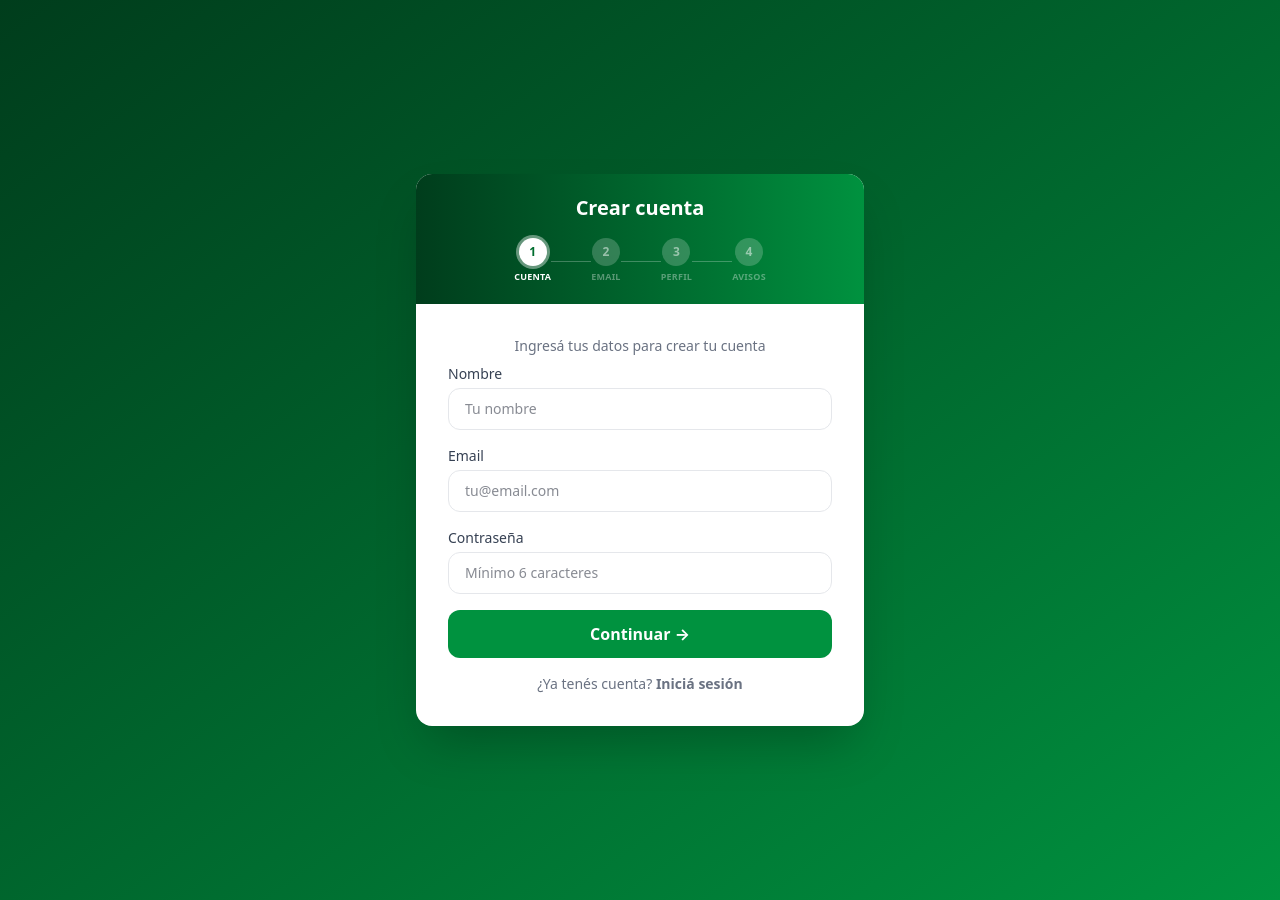
Register — paso 2: verificación de email › muestra input de código de 6 dígitos
The image size is (1280, 900).
Type "Carlos" into the field with placeholder "Tu nombre".
click(640, 409); type("Carlos")  # box x1=448 y1=388 x2=832 y2=430
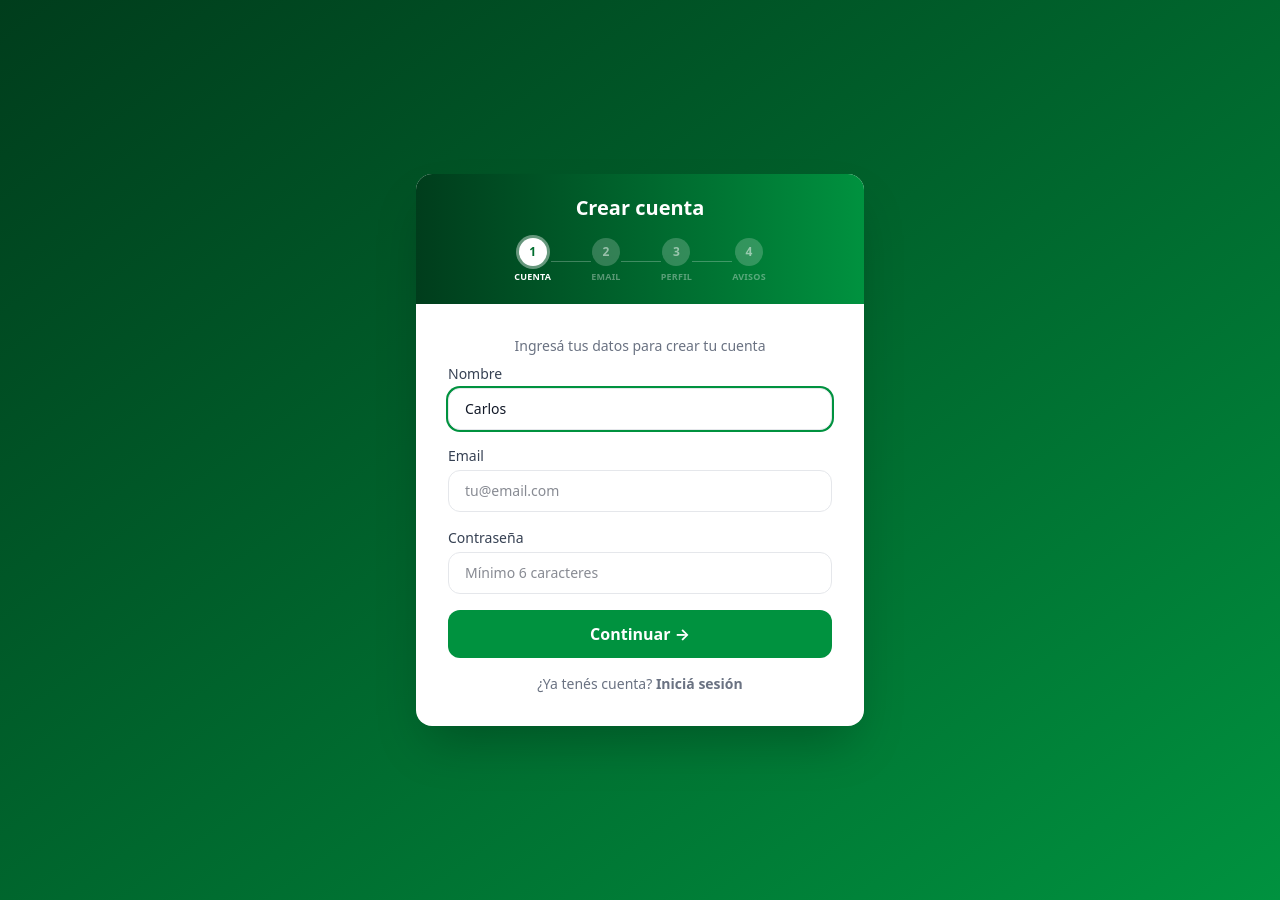
Type "carlos@test.com" into the field with placeholder "tu@email.com".
click(640, 491); type("carlos@test.com")  # box x1=448 y1=470 x2=832 y2=512
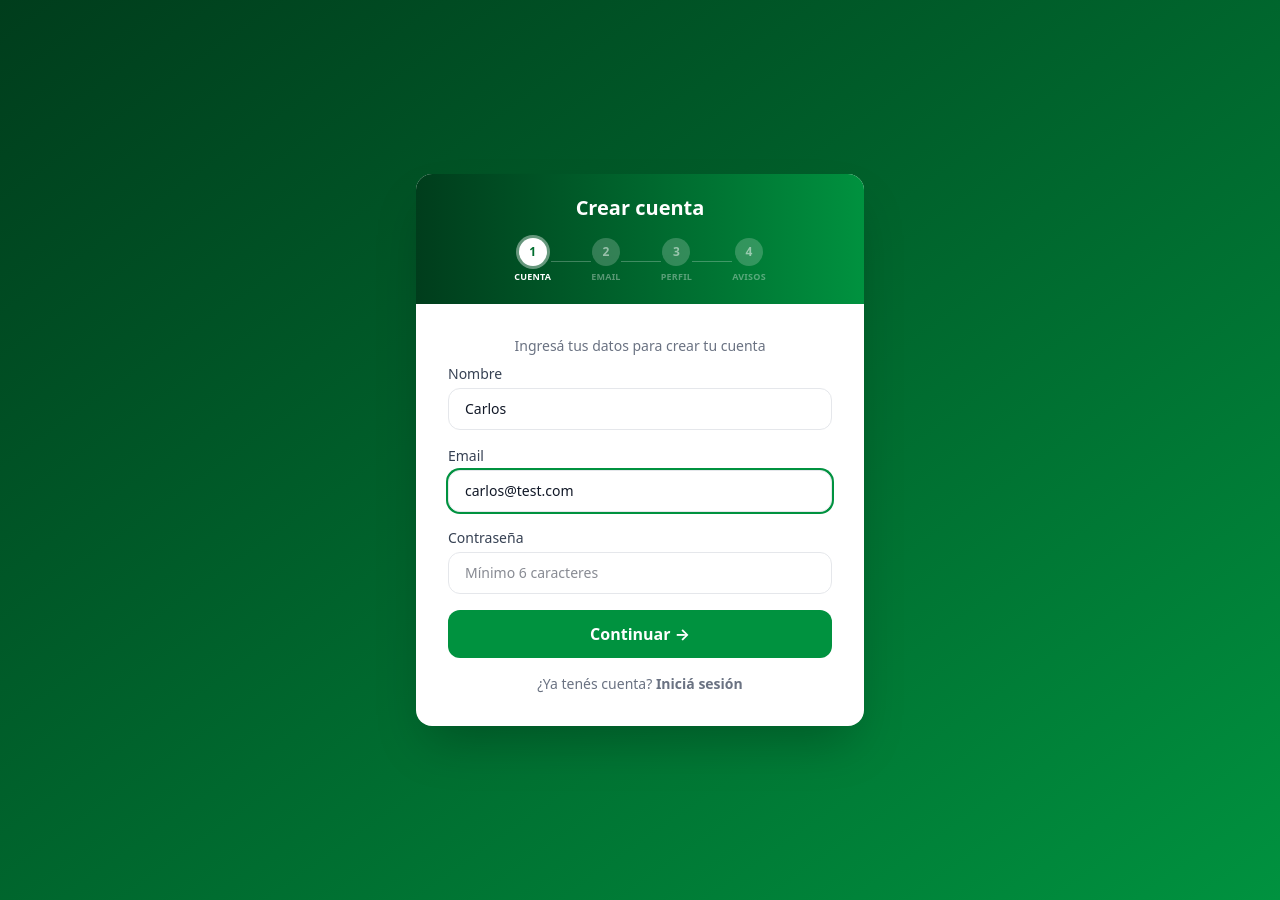
Type "pass123" into the password field with placeholder "Mínimo 6 caracteres".
click(640, 573); type("pass123")  # box x1=448 y1=552 x2=832 y2=594
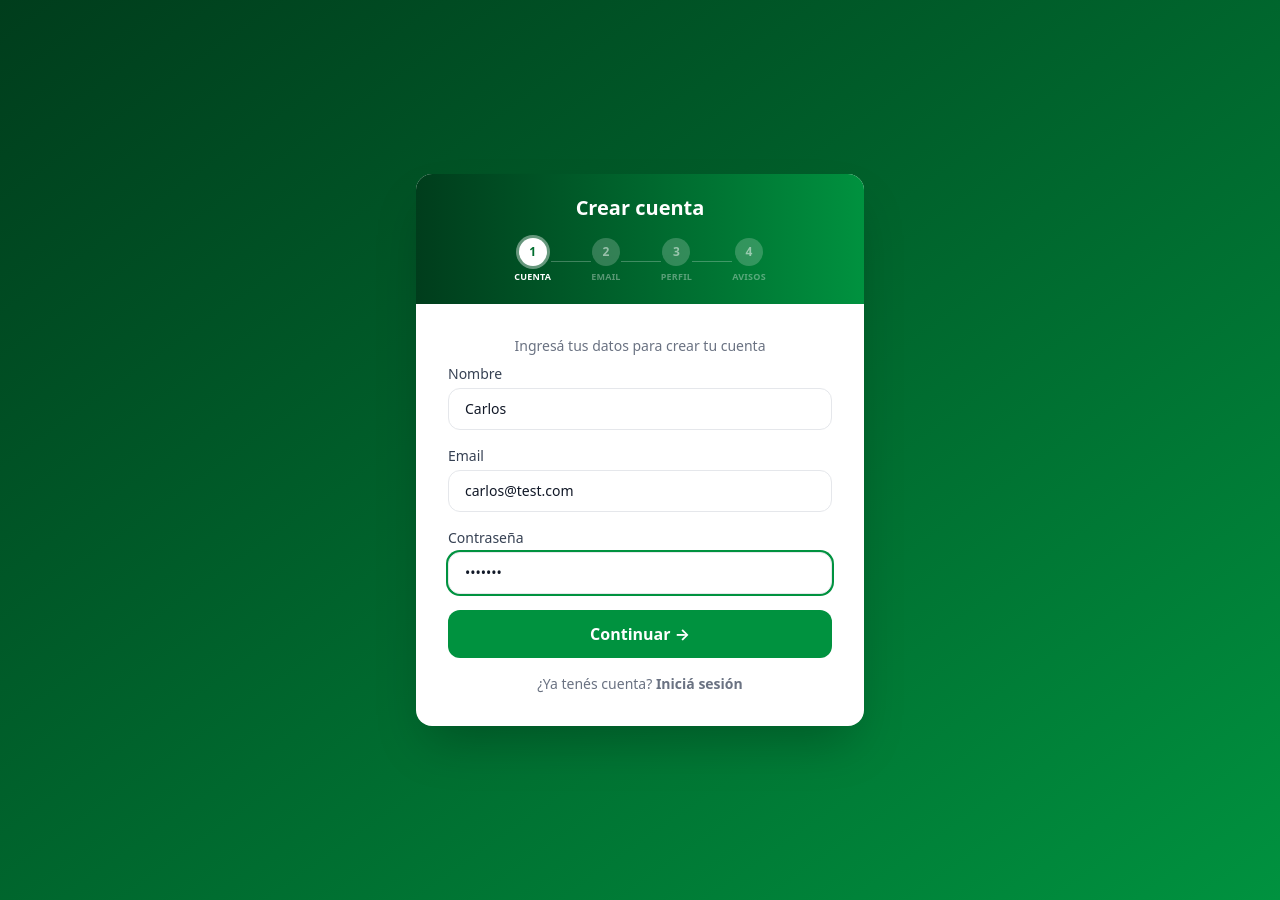
Click the button "Continuar →".
click(640, 634)  # box x1=448 y1=610 x2=832 y2=658
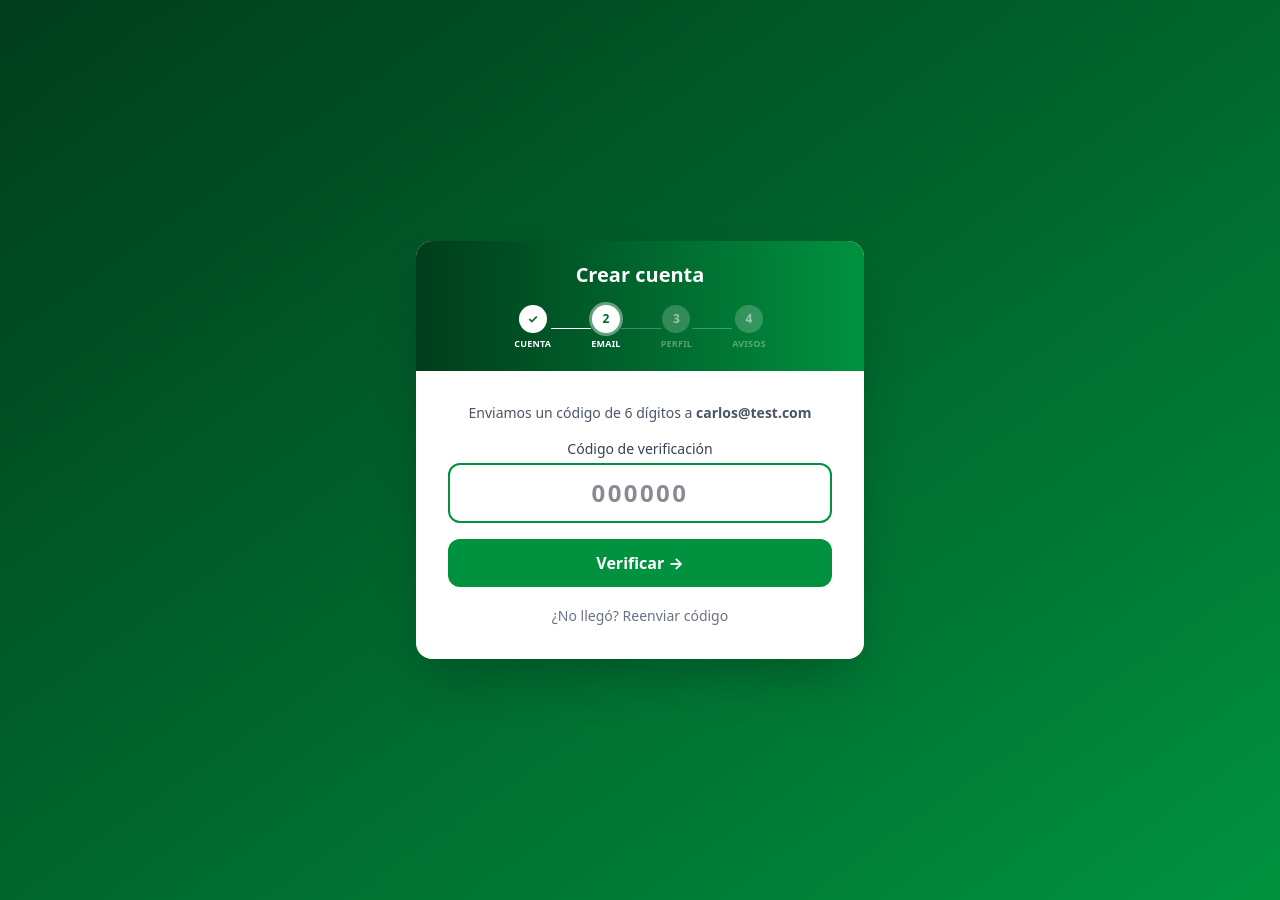
Result: the field with placeholder "000000" is shown at x1=448 y1=463 x2=832 y2=523
Result: the button "Verificar →" is shown at x1=448 y1=539 x2=832 y2=587
